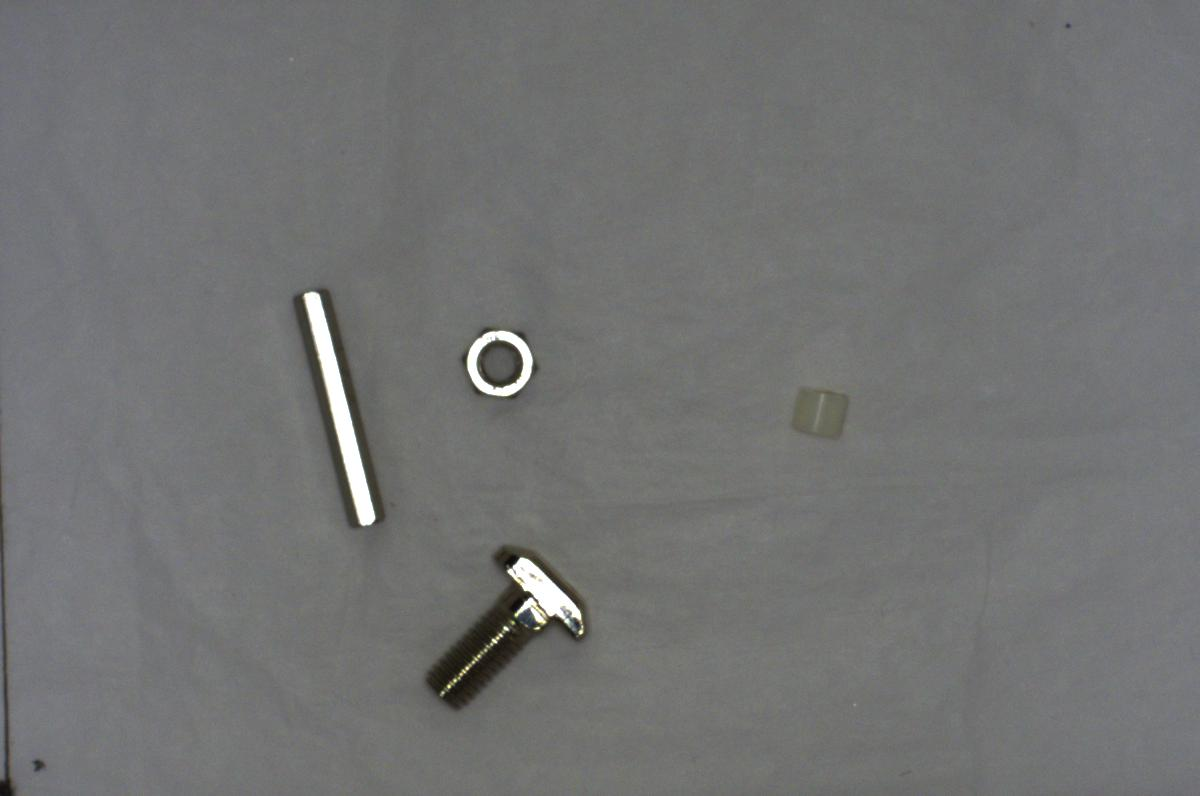Double hexagonal column: (282, 280, 398, 536)
Hexagon nut: (453, 319, 547, 413)
Plastic cushion pillar: (778, 367, 857, 445)
T-shaped screw: (412, 541, 608, 708)
